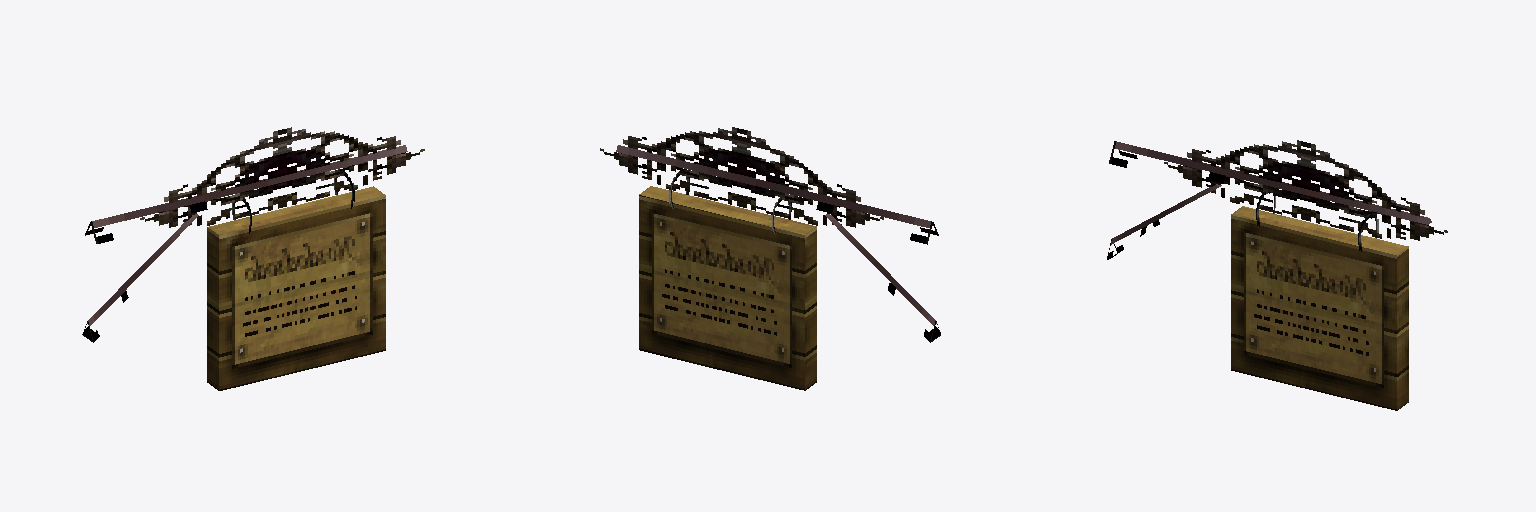
The picture shows the model from 3 angles: view 1: azimuth 30°, elevation 25°; view 2: azimuth 150°, elevation 25°; view 3: azimuth 330°, elevation 25°; orthographic projection.
Visible parts, largest first — view 1: Mesh_0, Mesh_1; view 2: Mesh_0, Mesh_1; view 3: Mesh_0, Mesh_1.
Part boxes in pixels (bbox=[...]): Mesh_0: bbox=[82, 145, 407, 390]; Mesh_1: bbox=[140, 127, 424, 227]; Mesh_0: bbox=[616, 145, 940, 390]; Mesh_1: bbox=[600, 127, 883, 227]; Mesh_0: bbox=[1107, 141, 1431, 410]; Mesh_1: bbox=[1164, 140, 1447, 240].
Size of the model in its own units: 1.2 by 0.8172 by 0.1257.
3 materials, 3 textured.